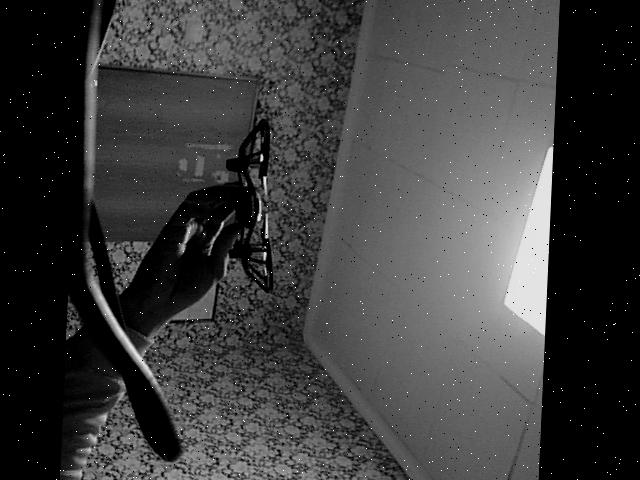drone: (215, 107, 292, 303)
